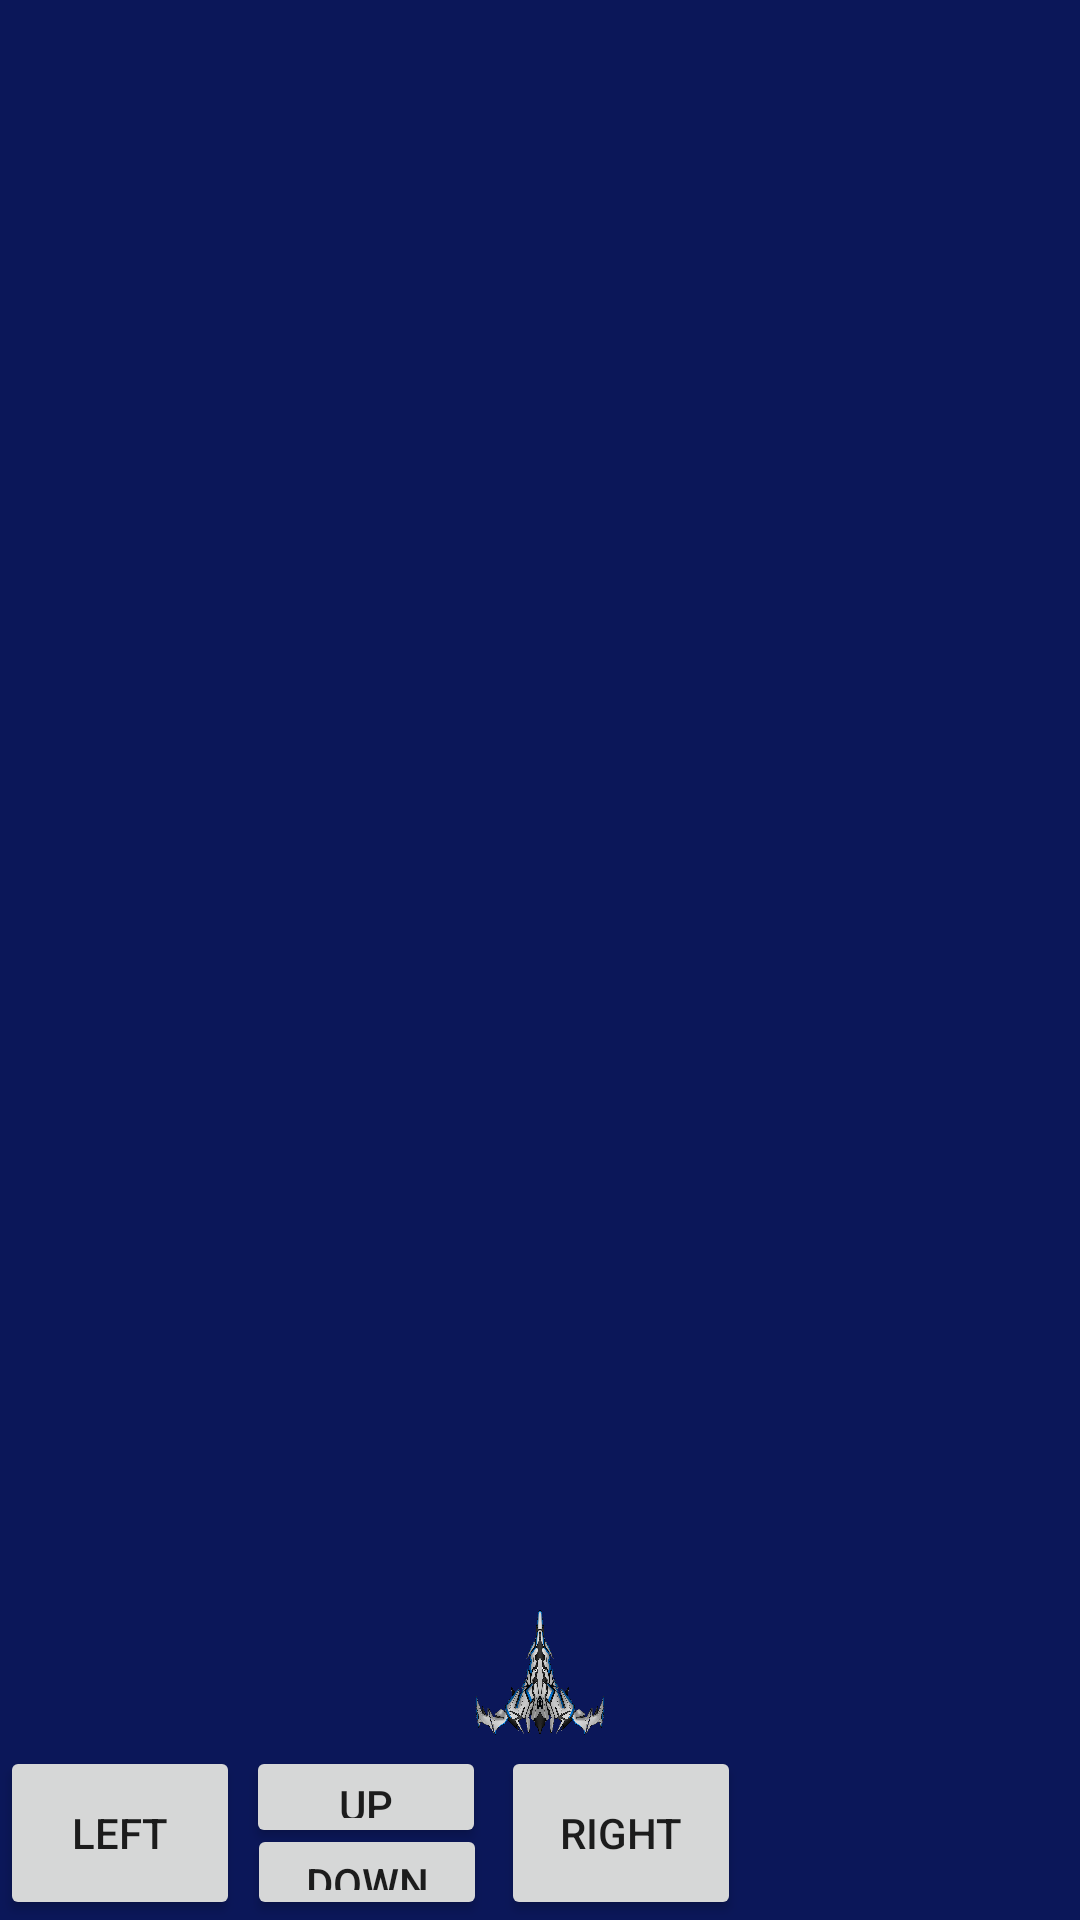

Screen size 1080px x 1920px. Icon name, then its center in pixels as (x=x, y=y):
spritenave: (x=540, y=1672)
